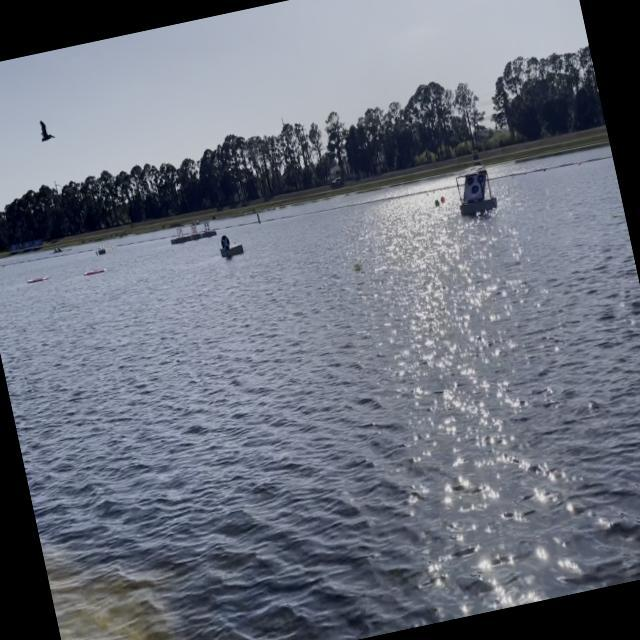buoy: (352, 260, 360, 270), (434, 198, 439, 206), (440, 194, 444, 204)
